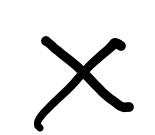mult: (35, 35, 134, 129)
